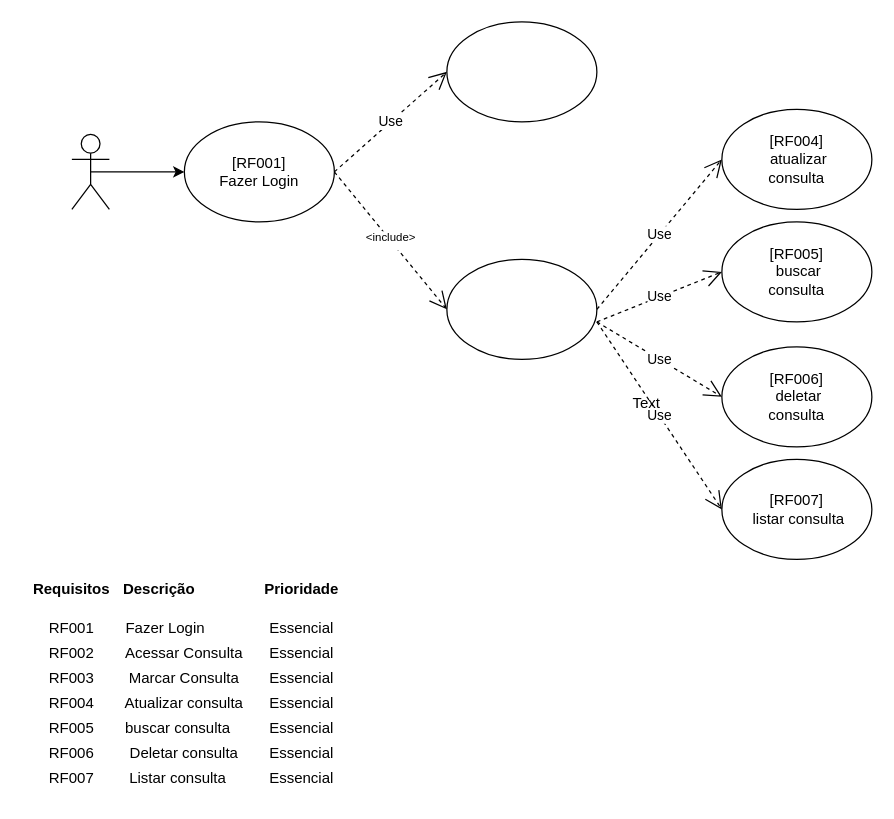
Some shapes in this 894 by 819 pixel diagram are drawn without their labels. The shapes that lost their labels are listed below. From the top down, each one's centre as x and y in pixels, then its label:
At point 521,71: "[RF002] Acessar Consultas".
At point 90,171: "Actor".
At point 521,308: "[RF003] Marcar Consulta".
